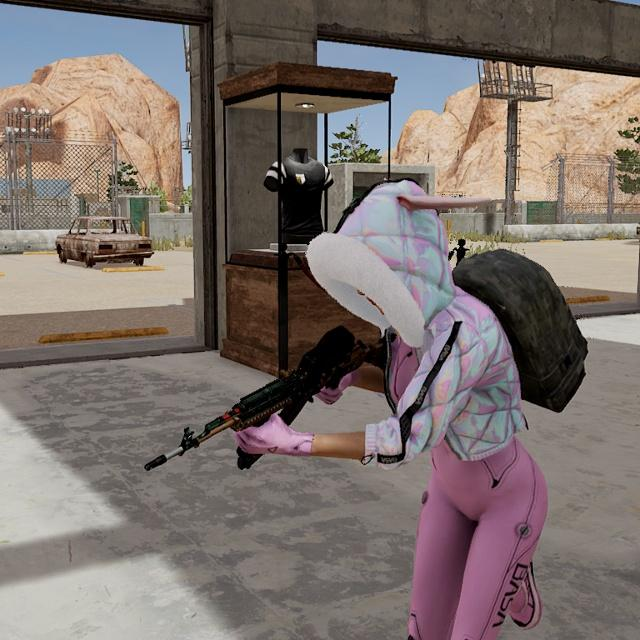head: (324, 175, 445, 342)
people: (305, 169, 572, 640)
